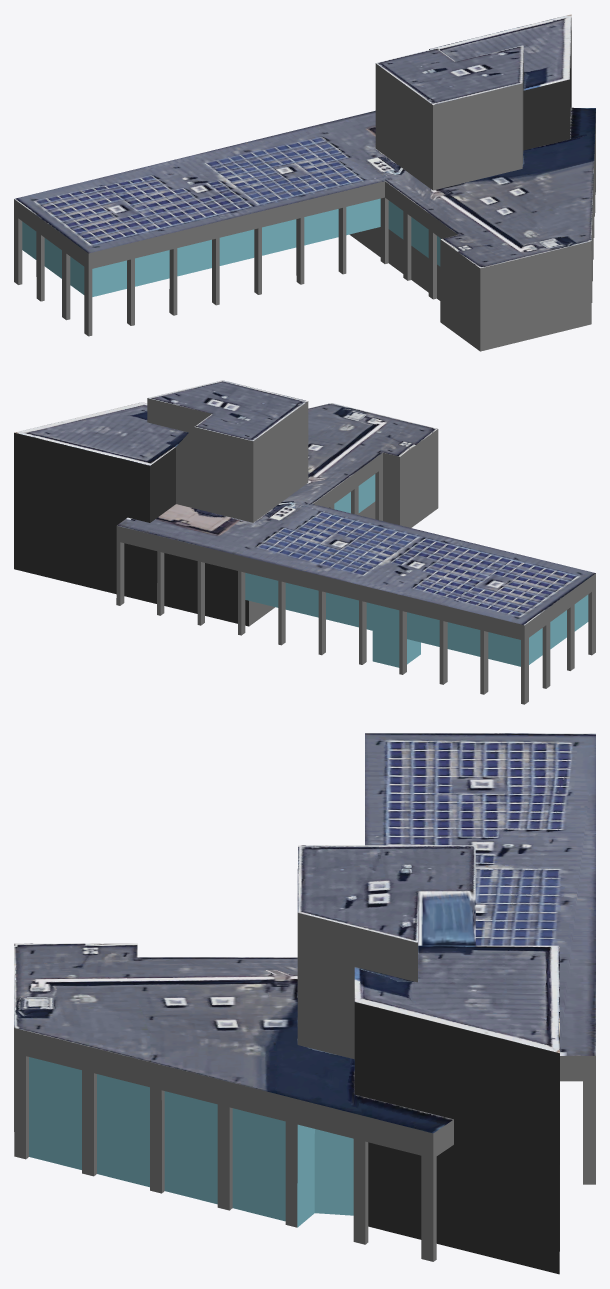
The model's file is mappi.fbx.
3 views of the same model, one above another, from view 1: azimuth 30°, elevation 25°; view 2: azimuth 150°, elevation 25°; view 3: azimuth 270°, elevation 25° (orthographic). The views are drawn at different scales.
Visible parts, largest first — view 1: Koulu; view 2: Koulu; view 3: Koulu.
Part boxes in pixels (<box>): Koulu: <box>14,14,595,351</box>; Koulu: <box>14,380,595,704</box>; Koulu: <box>14,733,595,1274</box>.
Size of what is drawn, in the model's own units: 453 by 134 by 270.
